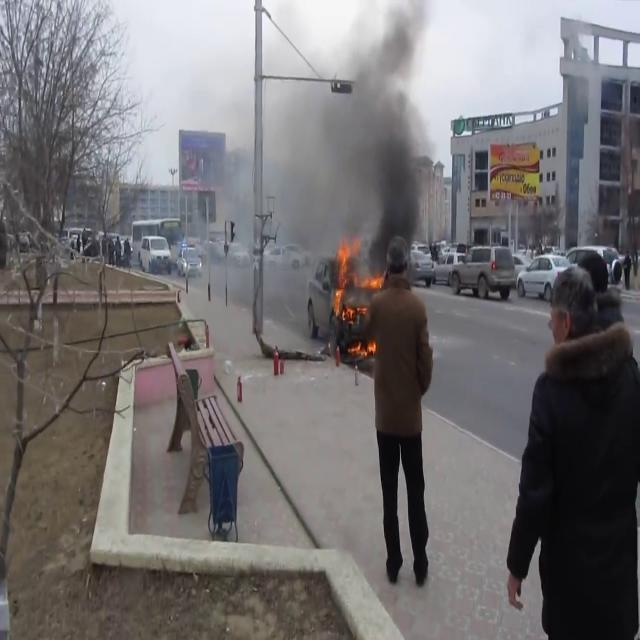Fire: (328, 238, 384, 360)
Smoke: (270, 1, 438, 260)
